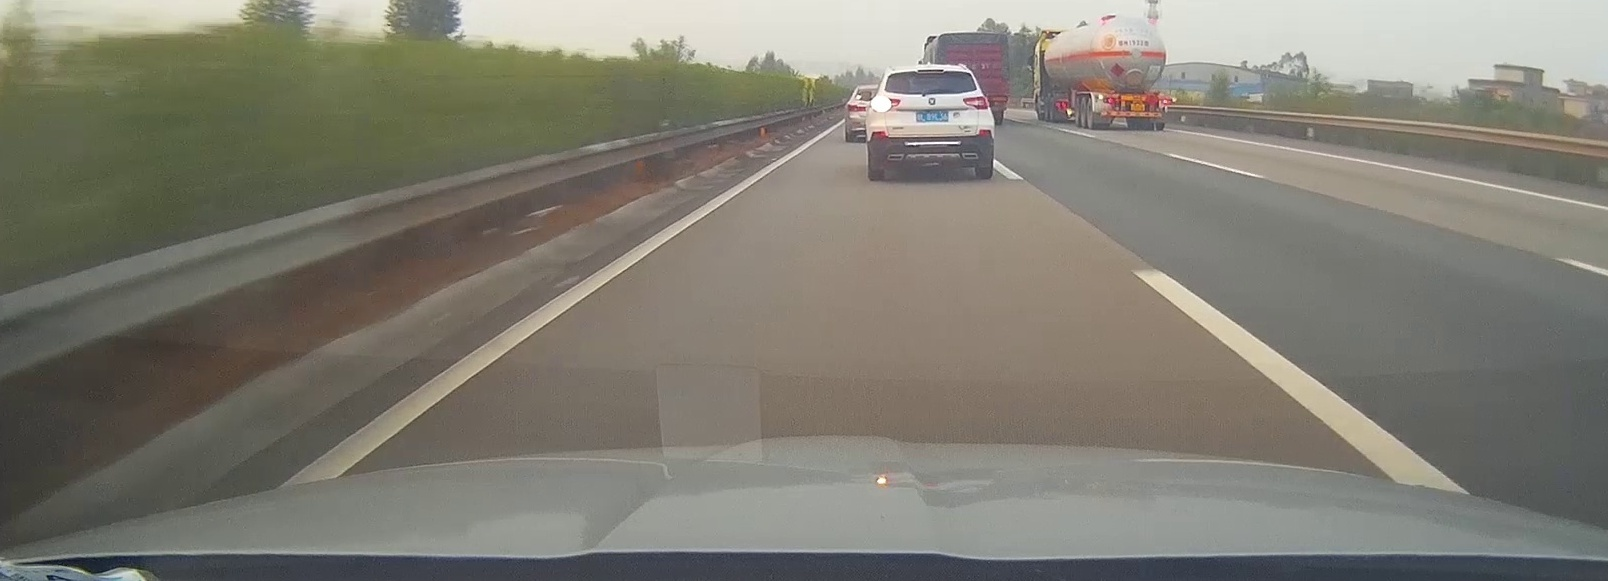L_light: (871, 96, 901, 111), (1103, 97, 1115, 103)
R_light: (963, 96, 989, 109), (1160, 99, 1172, 105)
T_light: (916, 69, 944, 72), (1132, 94, 1141, 98)
day-brake: (1091, 92, 1176, 131)
day-left: (866, 64, 995, 180)
